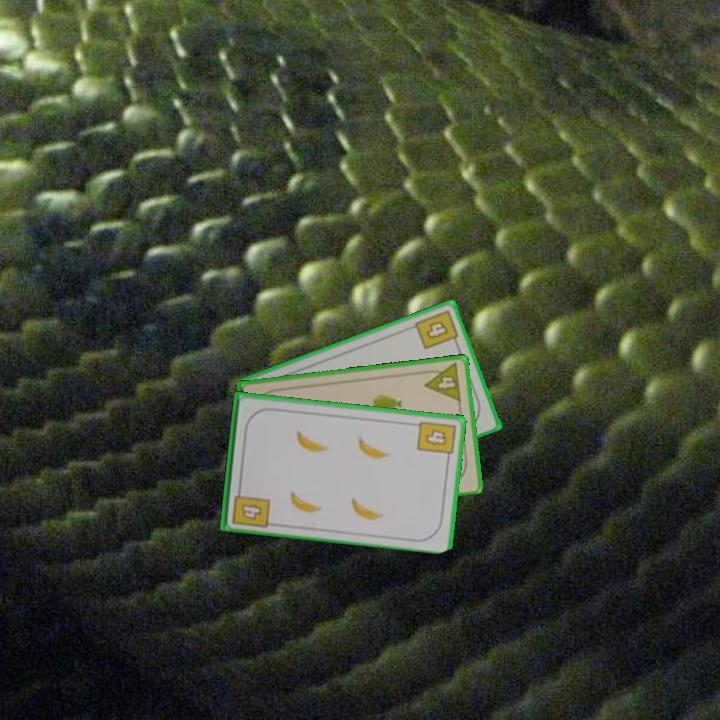4b: (411, 306, 462, 352), (228, 482, 272, 530), (413, 417, 458, 463)
4p: (420, 360, 464, 404)
